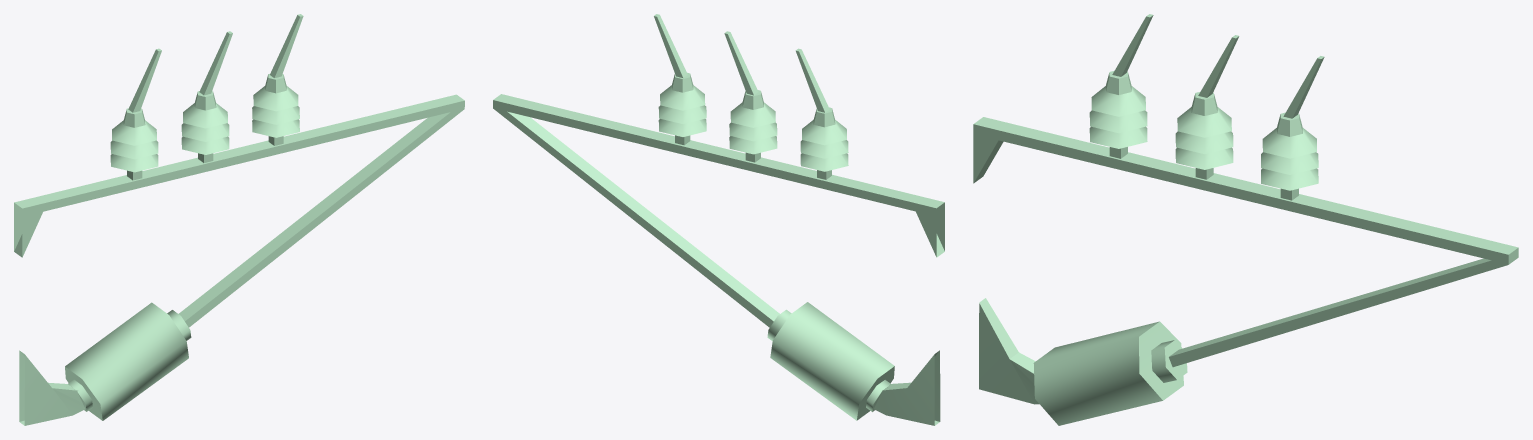
The model's file is utilitypolemount01a.fbx.
The picture shows the model from 3 angles, left to right: view 1: azimuth 30°, elevation 25°; view 2: azimuth 150°, elevation 25°; view 3: azimuth 330°, elevation 25°; orthographic projection. The views are drawn at different scales.
Visible parts, largest first — view 1: utilitypolemount01a_reference; view 2: utilitypolemount01a_reference; view 3: utilitypolemount01a_reference.
Part boxes in pixels (left/top/right/bottom): utilitypolemount01a_reference: left=14, top=14, right=464, bottom=425; utilitypolemount01a_reference: left=493, top=14, right=944, bottom=425; utilitypolemount01a_reference: left=973, top=14, right=1518, bottom=425.
Bounding box in the file's own units: 8431 × 6339 × 1142.
